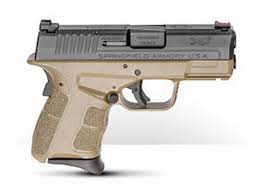gun: (25, 17, 238, 177)
